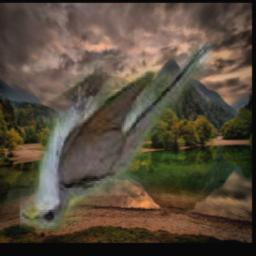Cuckoo: (21, 37, 216, 233)
